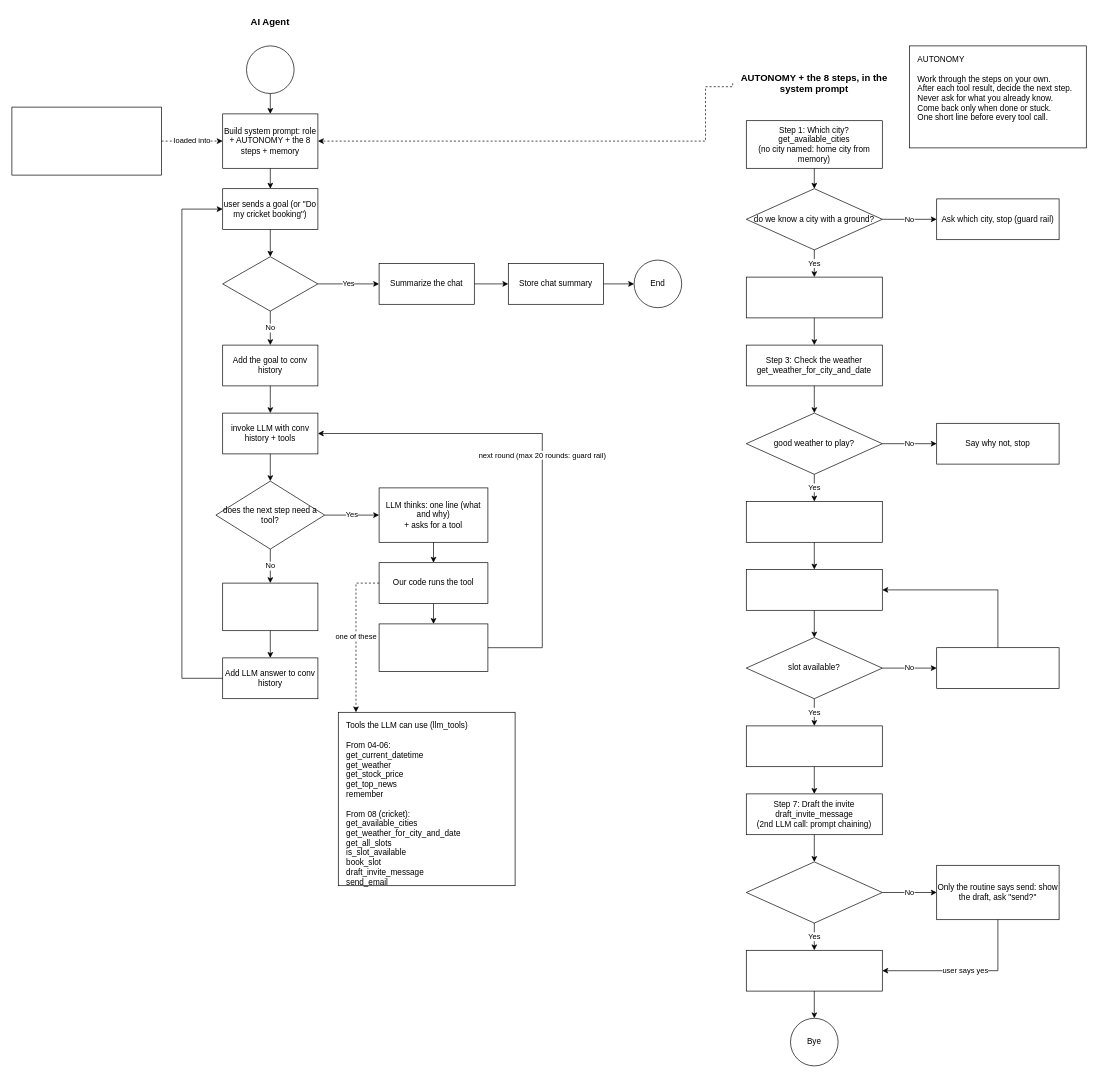
This 1098x1078 diagram has some shape labels left out. The shapes that lost their labels are listed below. From the top down, each one's box as (x1, y1, x2, y2) in pixels, then its label:
(246, 45, 294, 94): Start
(11, 106, 162, 175): Long-term memory facts: home_city = Hyderabad routines: cricket_booking.md
(222, 256, 318, 311): is it quit?
(746, 276, 882, 318): Step 2: Saturday or Sunday? get_current_datetime
(746, 501, 882, 542): Step 4: Get the slots get_all_slots
(222, 582, 318, 631): Goal done, or stuck: LLM answers the user
(746, 569, 882, 610): Step 5: Is the slot free? is_slot_available
(378, 623, 488, 672): Add tool request + tool result to conv history (kept now)
(936, 647, 1059, 688): Try the next slot on its own
(746, 725, 882, 767): Step 6: Book the slot book_slot
(746, 861, 882, 923): did the user say send?
(746, 950, 882, 991): Step 8: Send the email send_email
